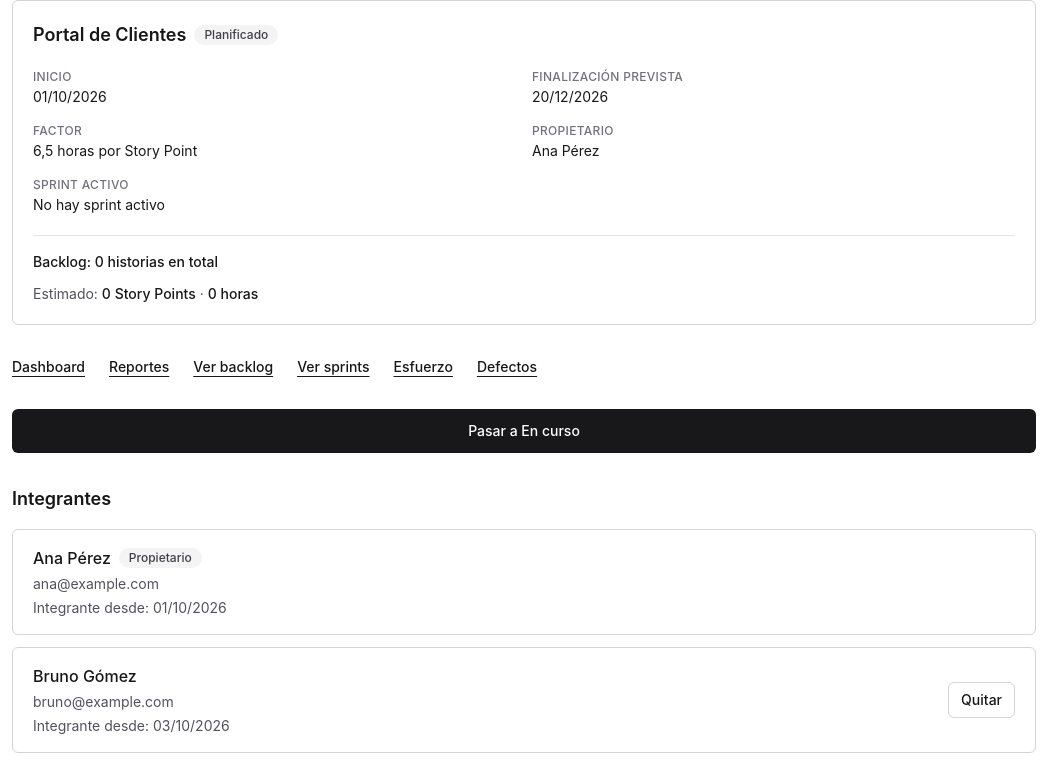
Test: 002/US6 - Avanzar el estado del proyecto › Recorrido completo
Expected: the list named "integrantes" is shown, left=12, top=529, right=1036, bottom=753
Step 1. Click the button "Pasar a En curso" → (524, 431), box left=12, top=409, right=1036, bottom=453
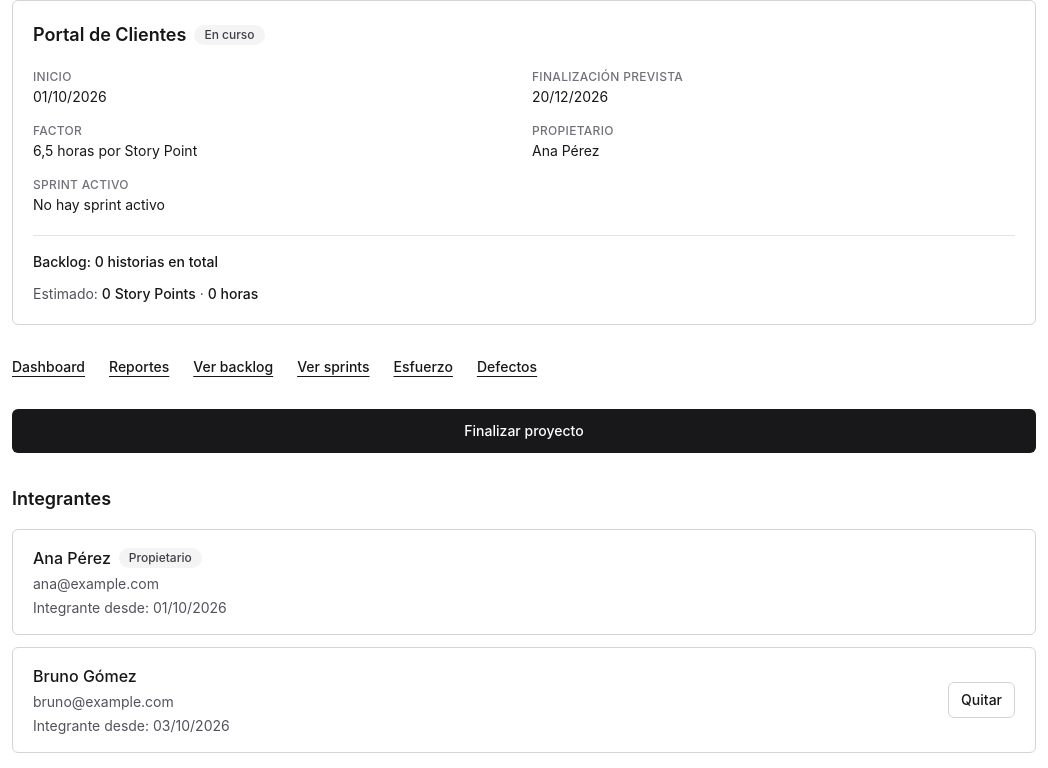
Expected: the text "En curso" is shown, left=194, top=25, right=265, bottom=45
Step 2. Click the button "Finalizar proyecto" → (524, 431), box left=12, top=409, right=1036, bottom=453
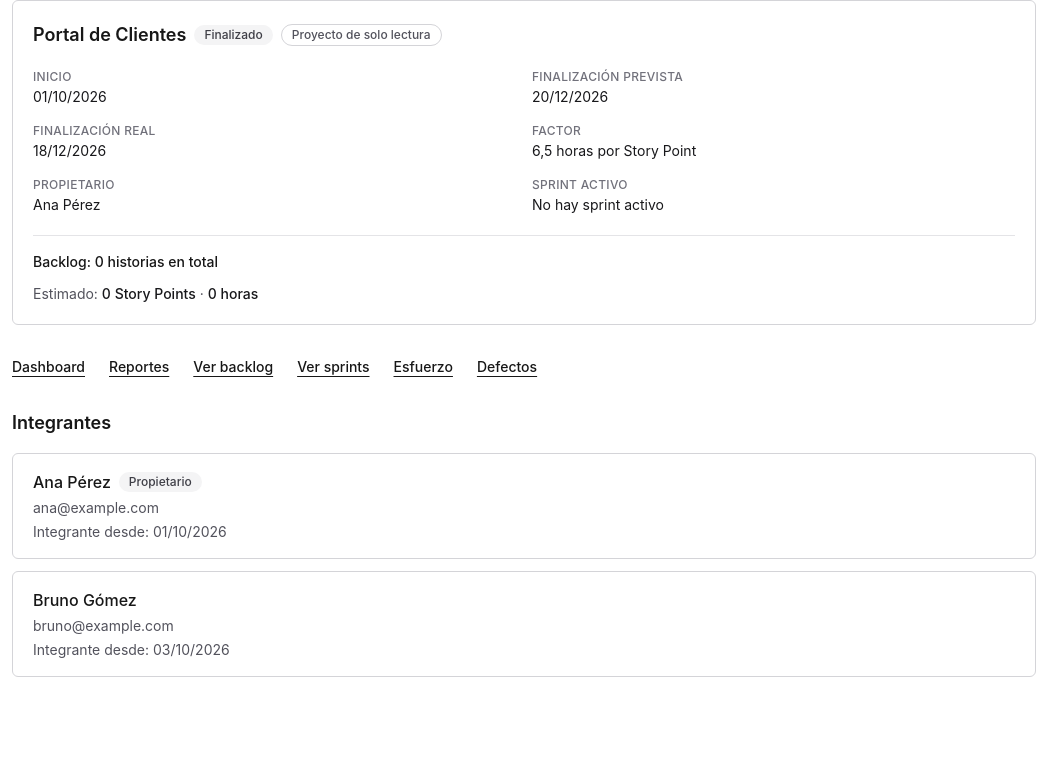
Expected: the text "Finalizado" is shown, left=194, top=25, right=273, bottom=45
Expected: no buttons "Finalizar proyecto" are shown
Expected: the button "Quitar" is gone
